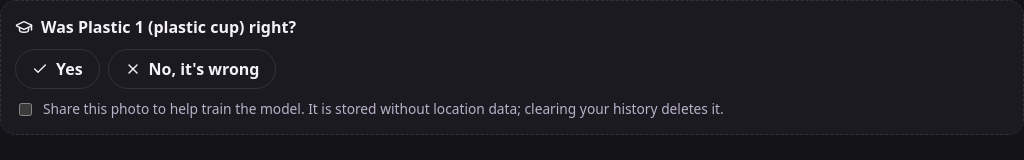
Test case: sends a yes answer without the photo unless the user agrees
Expected: the text "Was Plastic 1 (plastic cup) right?" is shown, [15,16,296,38]
Click the button "Yes" at (57, 69), box [15,49,100,89]
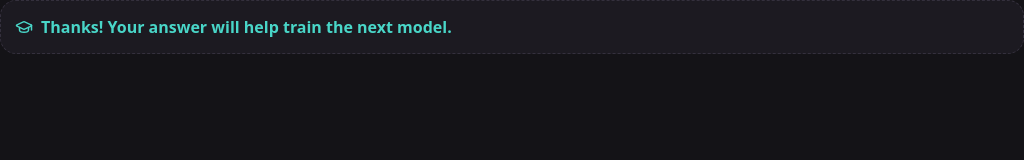
Expected: the text "Thanks! Your answer will help train the next model." is shown, [0,0,1023,54]
